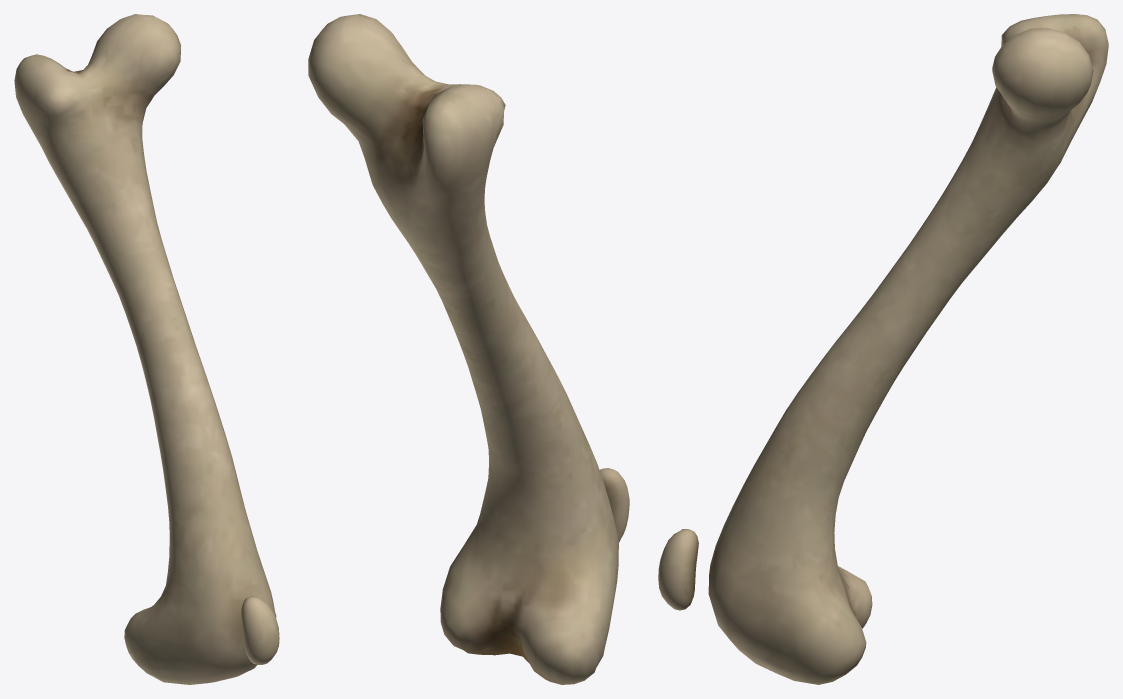
The model's file is Femur.glb.
The picture shows the model from 3 angles, left to right: view 1: azimuth 30°, elevation 25°; view 2: azimuth 150°, elevation 25°; view 3: azimuth 270°, elevation 25°; orthographic projection. The views are drawn at different scales.
Visible parts, largest first — view 1: polySurface8; view 2: polySurface8; view 3: polySurface8.
Part boxes in pixels (left/top/right/bottom): polySurface8: left=14, top=14, right=279, bottom=684; polySurface8: left=308, top=14, right=629, bottom=684; polySurface8: left=658, top=14, right=1108, bottom=684.
Bounding box in the file's own units: 31.14 × 121 × 74.75.
1 material, 1 textured.
